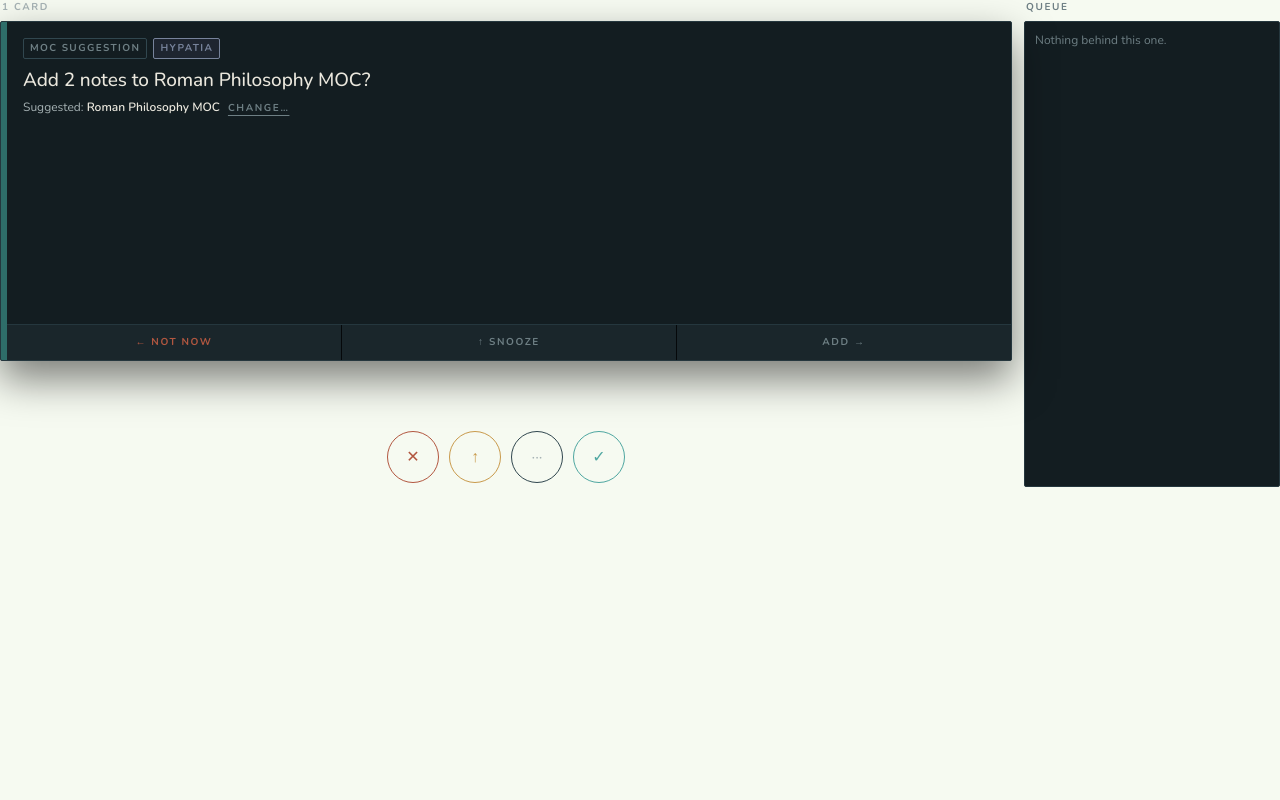
the open-set hold-selector › renders one ADDRESSABLE row per target — not three rows sharing a key
Press the mouse on the element with test id "deck-card": (506, 191) [0, 21, 1012, 361]
Wait 450 ms
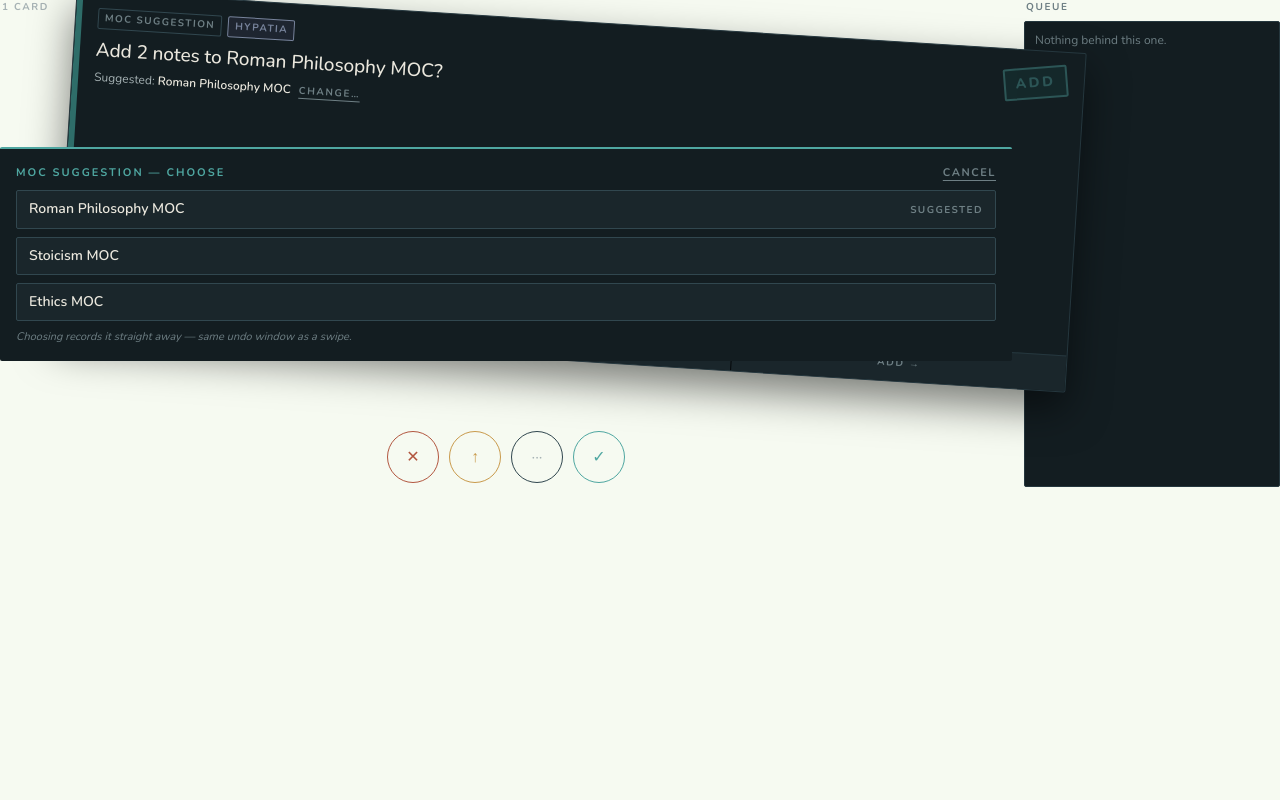
Check: the button with test id "deck-hold-choice-MOC/Roman Philosophy MOC.md" is shown, box [16, 190, 996, 228]
Check: the button with test id "deck-hold-choice-MOC/Stoicism MOC.md" is shown, box [16, 236, 996, 274]
Check: the button with test id "deck-hold-choice-MOC/Ethics MOC.md" is shown, box [16, 282, 996, 320]
